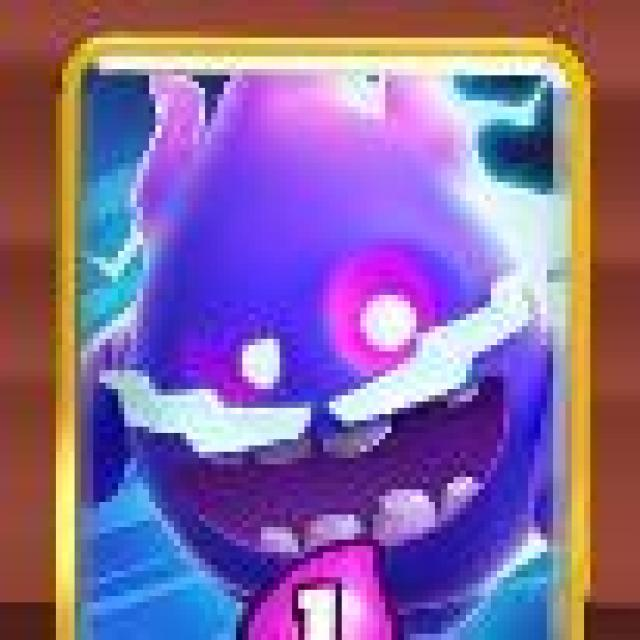Electro_Spirit: (52, 32, 585, 640)
